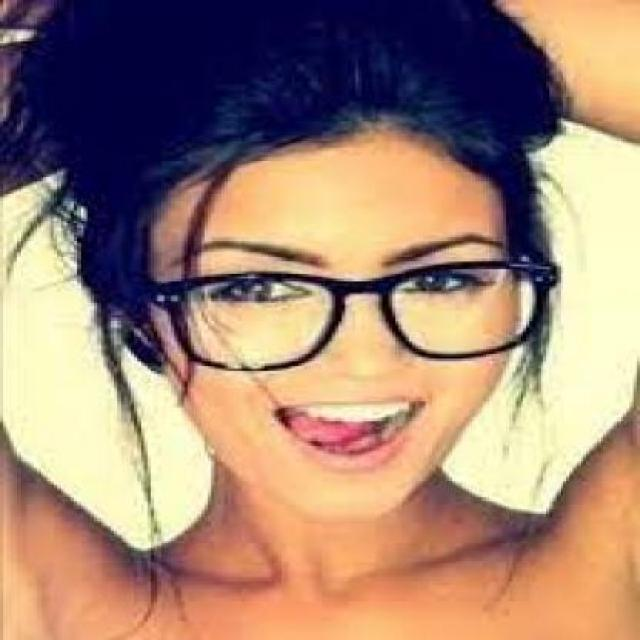glasses: (134, 259, 566, 372)
